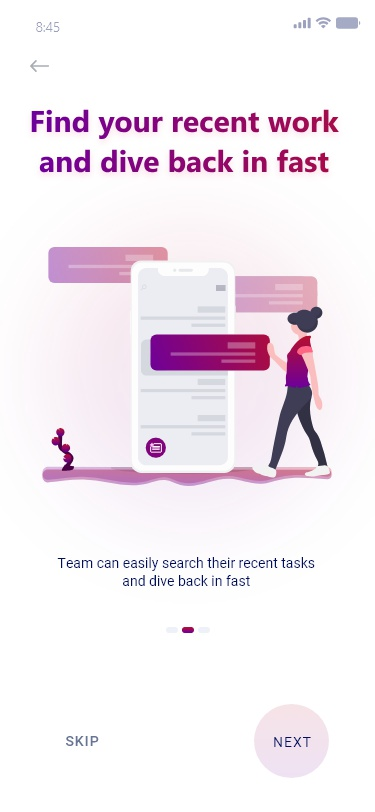Icon: (31, 60, 51, 73)
Image: (42, 247, 333, 487)
PageIndicator: (166, 626, 211, 634)
Text: (32, 109, 340, 174), (57, 556, 315, 587), (66, 735, 100, 747)
TextButton: (254, 704, 330, 778)
UpperTaskBar: (36, 17, 361, 34)
